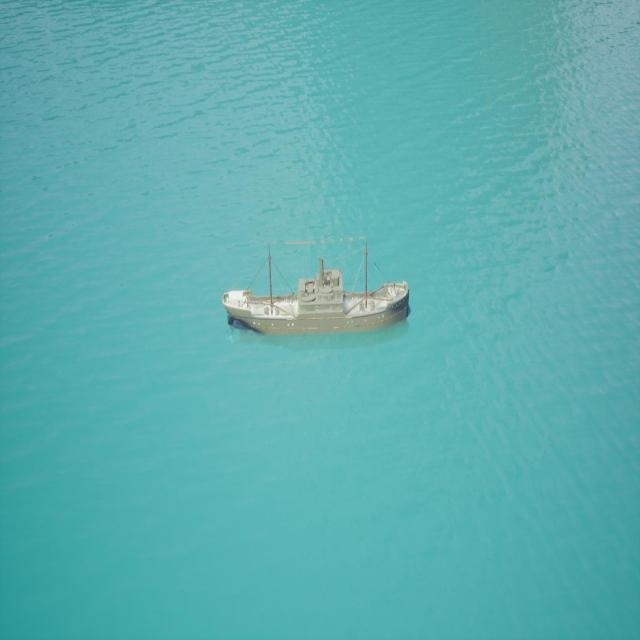fishing ship: (223, 242, 411, 338)
